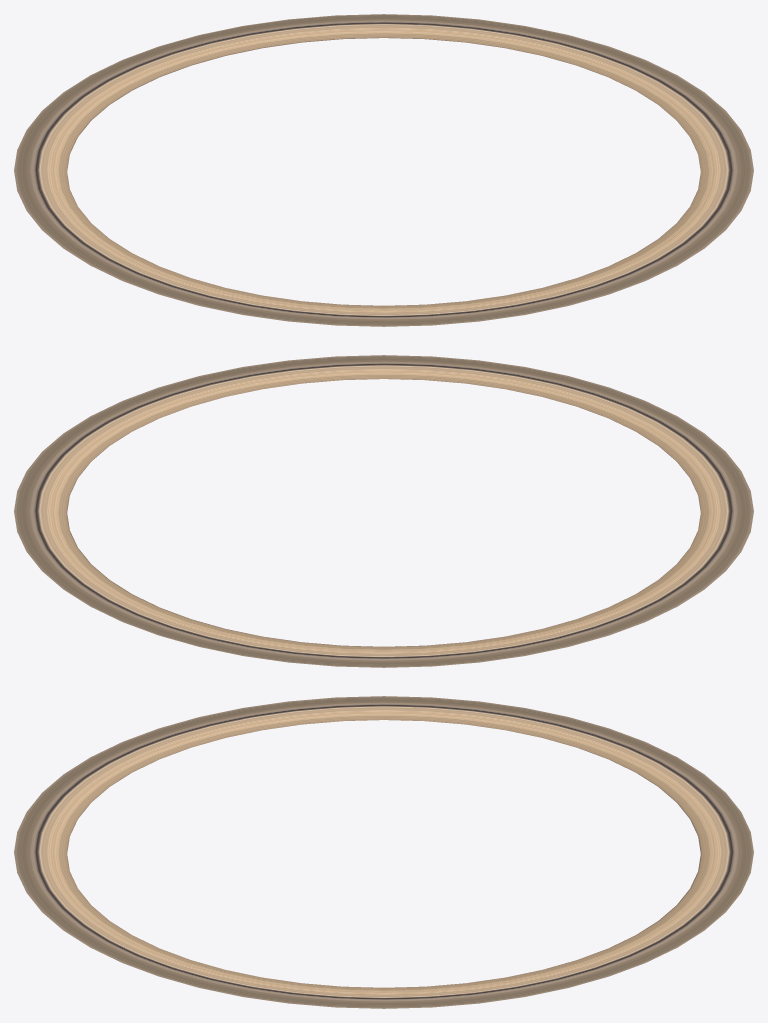
File: saturn_rings.obj
3 renders of one model, top to bottom at view 1: azimuth 30°, elevation 25°; view 2: azimuth 150°, elevation 25°; view 3: azimuth 270°, elevation 25°, orthographic.
Parts seen in each view (by area): view 1: Torus; view 2: Torus; view 3: Torus.
Part boxes in pixels (<box>): Torus: <box>14,14,753,326</box>; Torus: <box>14,355,753,667</box>; Torus: <box>14,696,753,1008</box>.
Bounding box in the file's own units: 153 × 0.4428 × 153.
